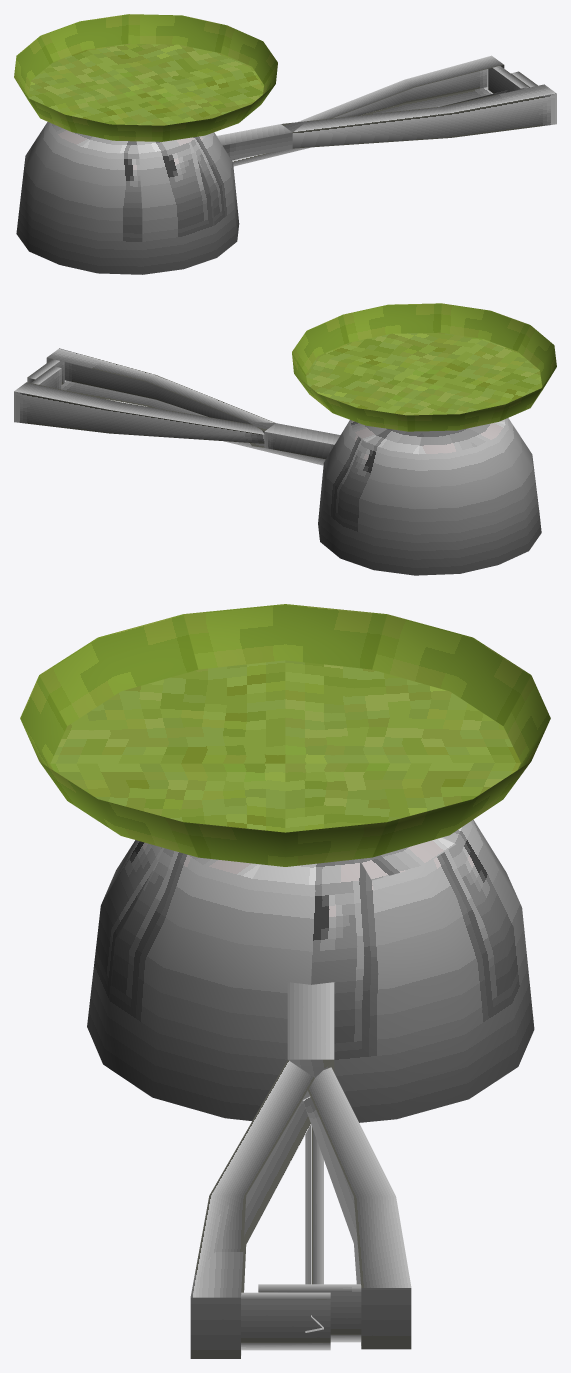
3 renders of one model, top to bottom at view 1: azimuth 30°, elevation 25°; view 2: azimuth 150°, elevation 25°; view 3: azimuth 270°, elevation 25°, orthographic. The views are drawn at different scales.
Parts seen in each view (by area): view 1: disher4; view 2: disher4; view 3: disher4.
Part boxes in pixels (x1,y1,x2,y2): disher4: (14,14,556,274); disher4: (14,303,556,575); disher4: (20,604,550,1358).
Bounding box in the file's own units: 0.6864 × 0.2113 × 0.3129.
Materials: 4 (4 with a texture image).
